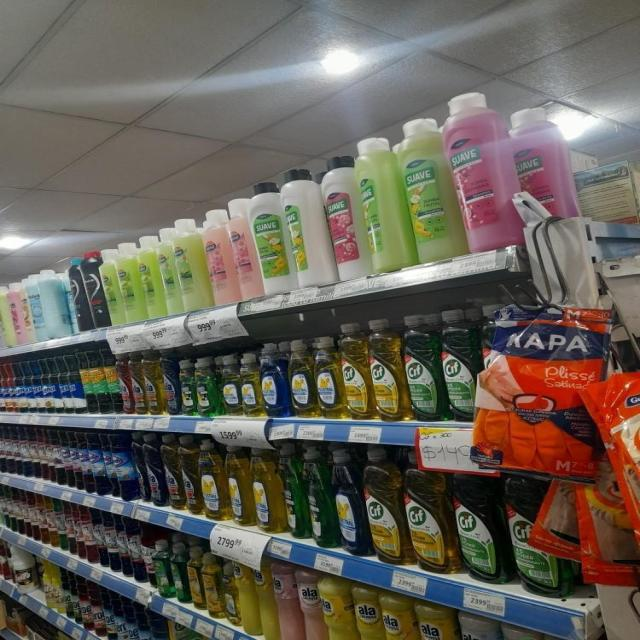ala_conc_amarillo: (182, 435, 200, 515), (164, 434, 182, 511), (144, 350, 162, 416), (132, 351, 144, 415)
ala_conc_azul: (144, 433, 164, 507), (163, 351, 179, 416)
ala_crem_amarillo: (419, 601, 461, 640), (385, 592, 418, 640), (237, 554, 256, 636), (356, 585, 384, 640), (258, 557, 275, 640)
ala_crem_blanco: (462, 613, 508, 640)
ala_crem_rosado: (300, 568, 322, 640)
cif_conc_bot_amarilla: (406, 454, 452, 574), (366, 446, 404, 564), (370, 317, 404, 422), (342, 320, 369, 420)
cif_conc_botella_verde: (456, 469, 505, 584), (405, 313, 441, 422), (442, 309, 476, 421)
magistral_con_amarillo: (253, 444, 279, 532), (315, 335, 341, 419), (201, 438, 227, 522), (289, 338, 314, 418), (228, 443, 252, 525), (220, 354, 241, 417), (241, 352, 260, 418)
magistral_con_azul: (335, 448, 364, 556), (261, 340, 288, 418)
